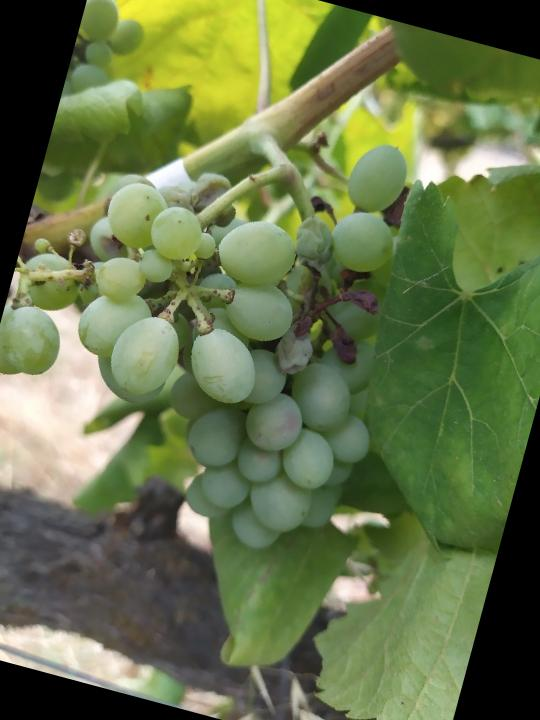grape: (0, 57, 449, 581)
